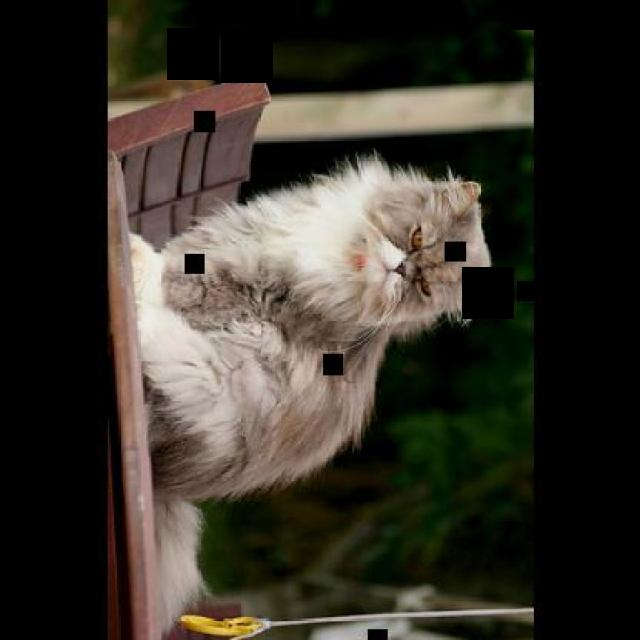unauthorized: (124, 150, 502, 638)
